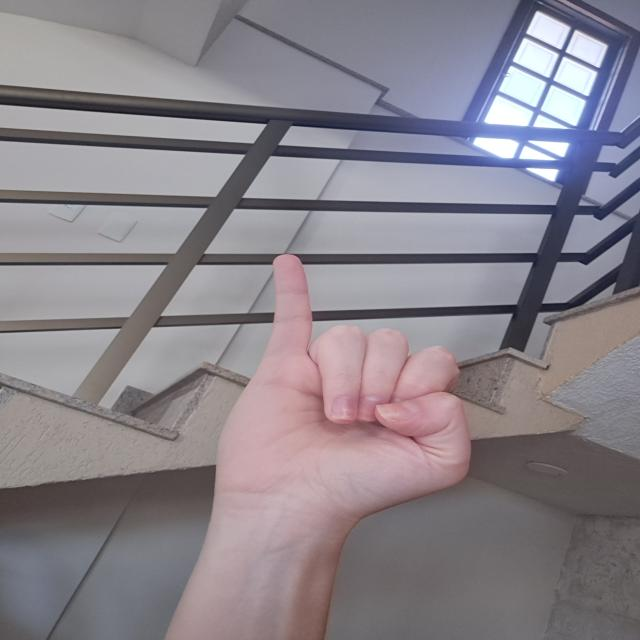I: (196, 253, 481, 553)
